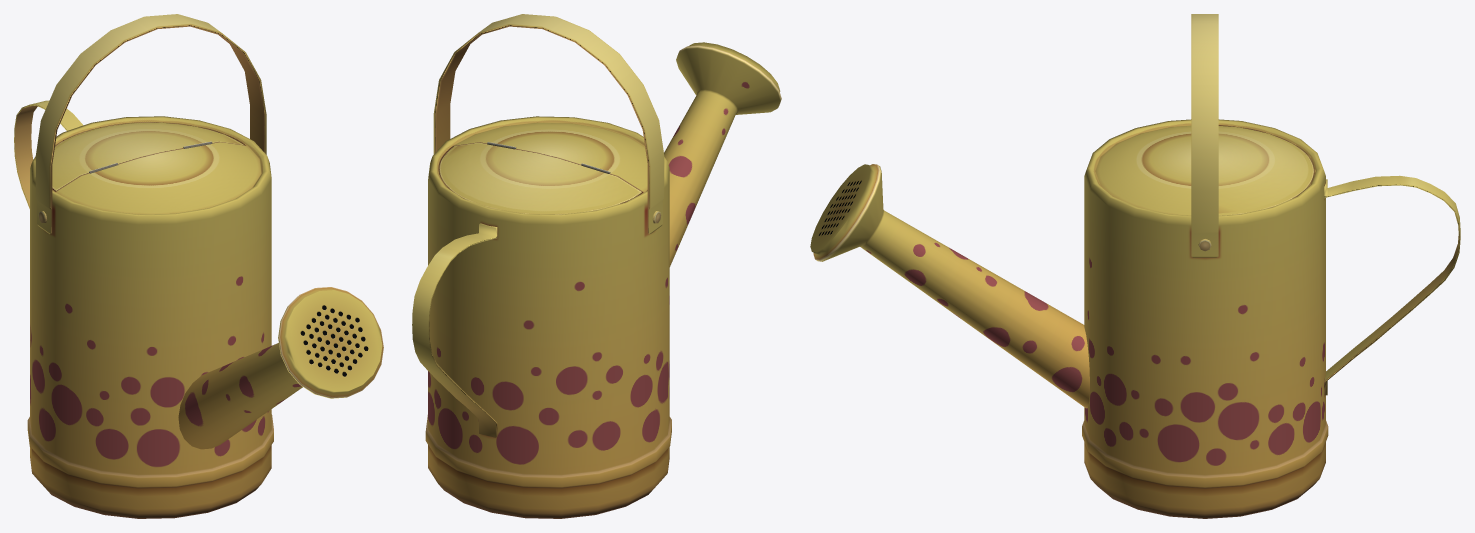
Rendered from WateringCan.glb.
3 renders of one model, left to right at view 1: azimuth 30°, elevation 25°; view 2: azimuth 150°, elevation 25°; view 3: azimuth 270°, elevation 25°, orthographic.
Visible parts, largest first — view 1: WateringCan; view 2: WateringCan; view 3: WateringCan.
Boxes of the visible parts, <box> form: WateringCan: <box>14,14,383,518</box>; WateringCan: <box>412,14,781,518</box>; WateringCan: <box>810,14,1460,518</box>.
Size of the model in its own units: 0.1392 by 0.2734 by 0.3612.
1 material, 1 textured.
